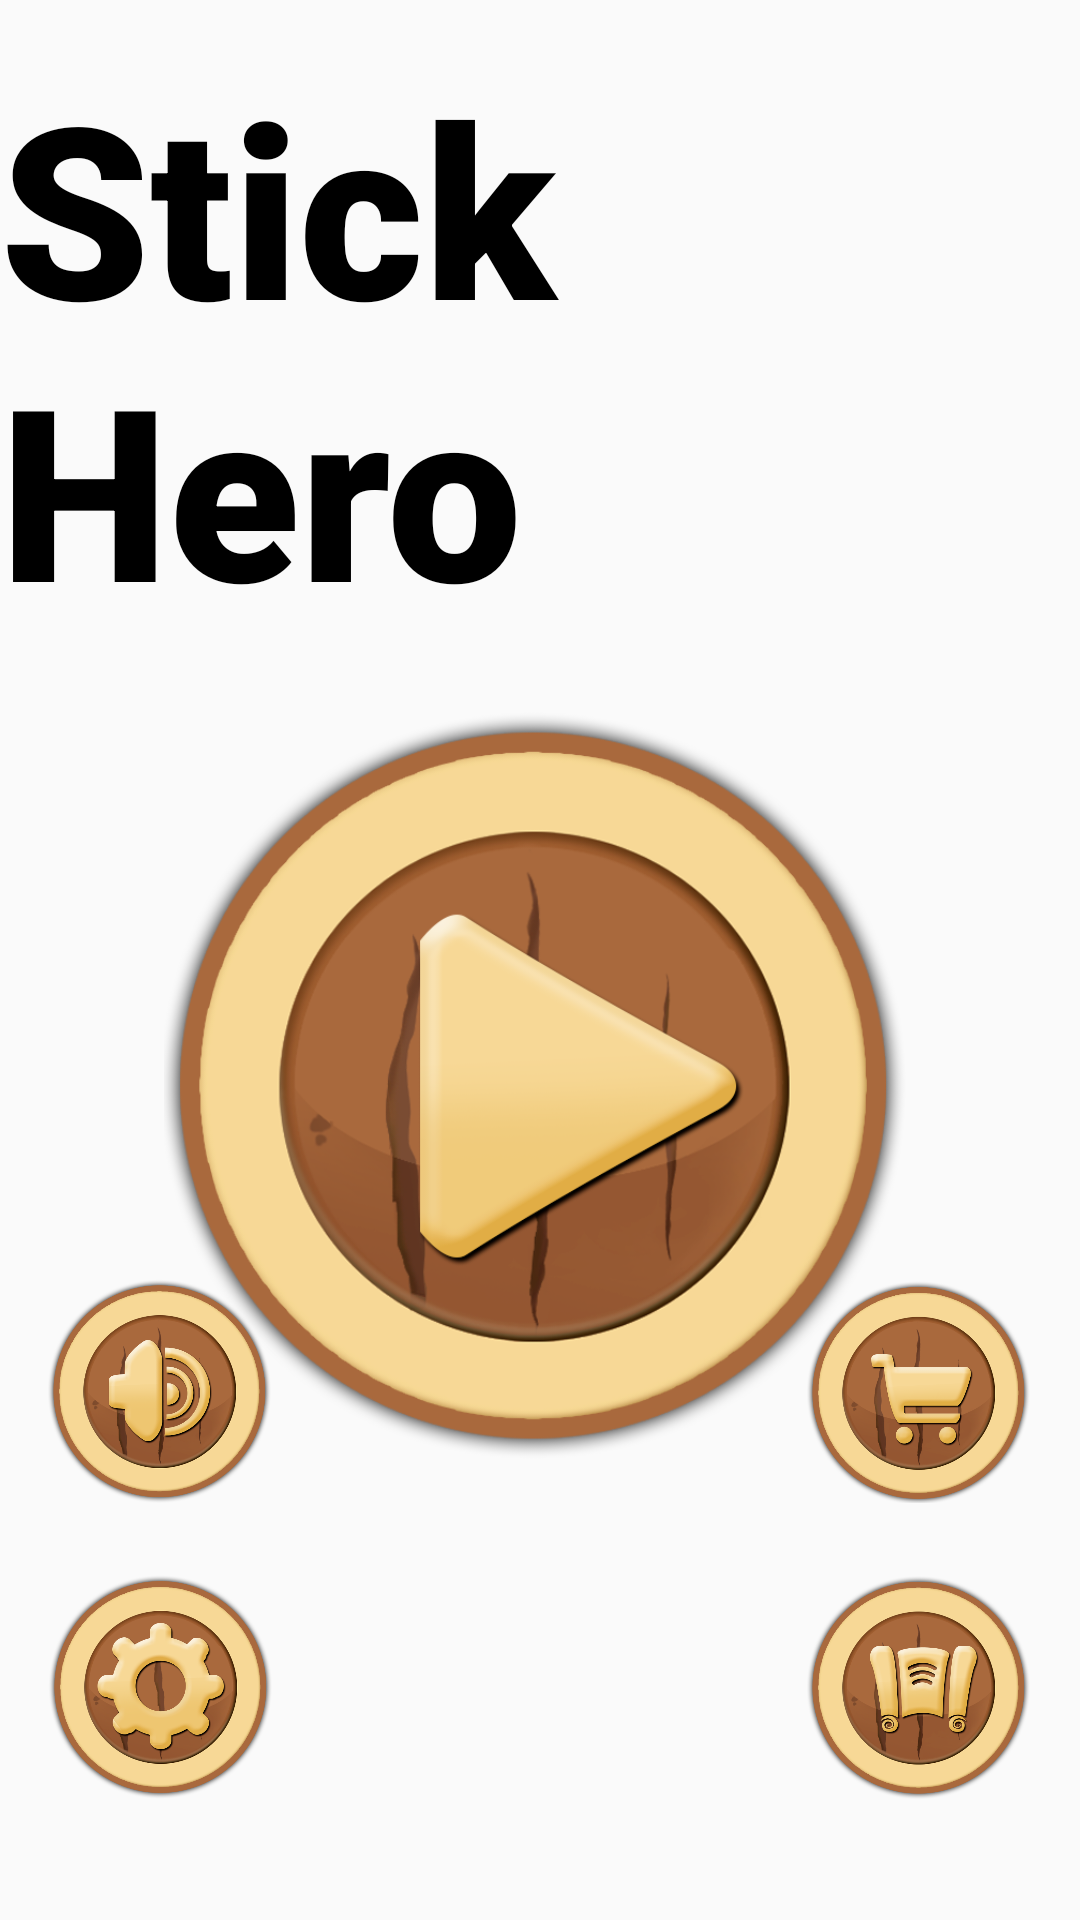

Screen size 1080px×1920px. Icon name, then its center in pixels as point (x, y):
about: point (918, 1687)
settings: point (160, 1687)
shop: point (918, 1392)
sound: point (159, 1391)
